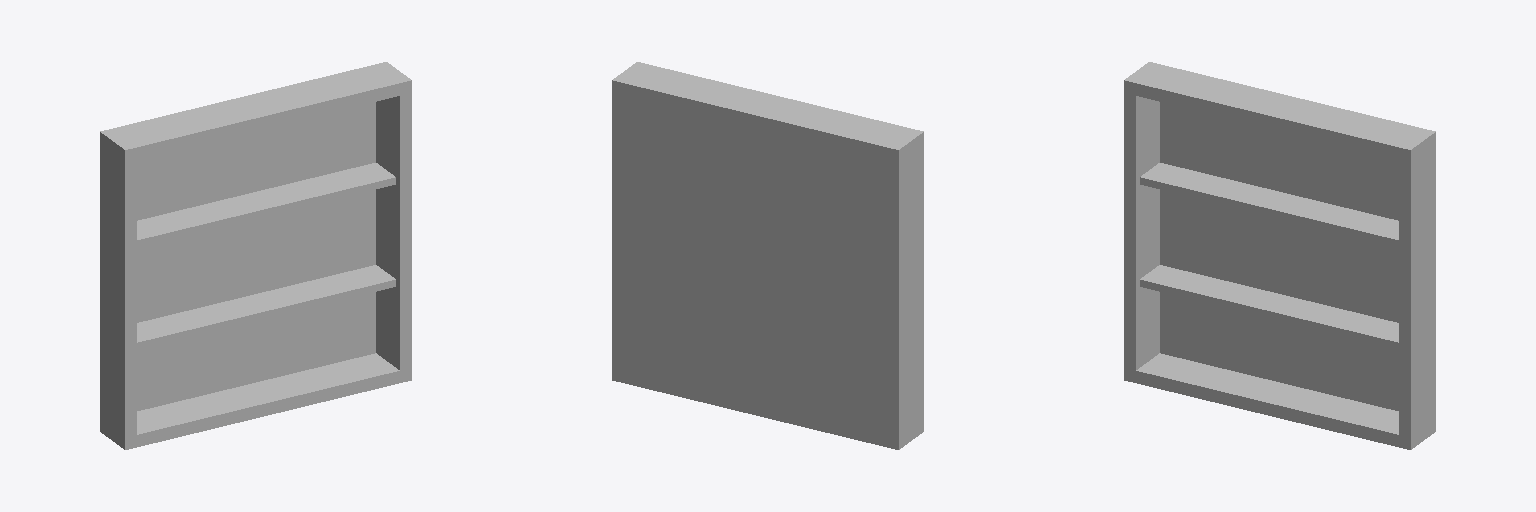
The model's file is WeaponsRack.obj.
The picture shows the model from 3 angles: view 1: azimuth 30°, elevation 25°; view 2: azimuth 150°, elevation 25°; view 3: azimuth 330°, elevation 25°; orthographic projection.
Parts seen in each view (by area): view 1: WeaponsRack; view 2: WeaponsRack; view 3: WeaponsRack.
Part boxes in pixels (bbox=[...]): WeaponsRack: bbox=[100, 62, 411, 449]; WeaponsRack: bbox=[612, 62, 923, 449]; WeaponsRack: bbox=[1124, 62, 1435, 449].
Bounding box in the file's own units: 1.3 × 1.3 × 0.2.